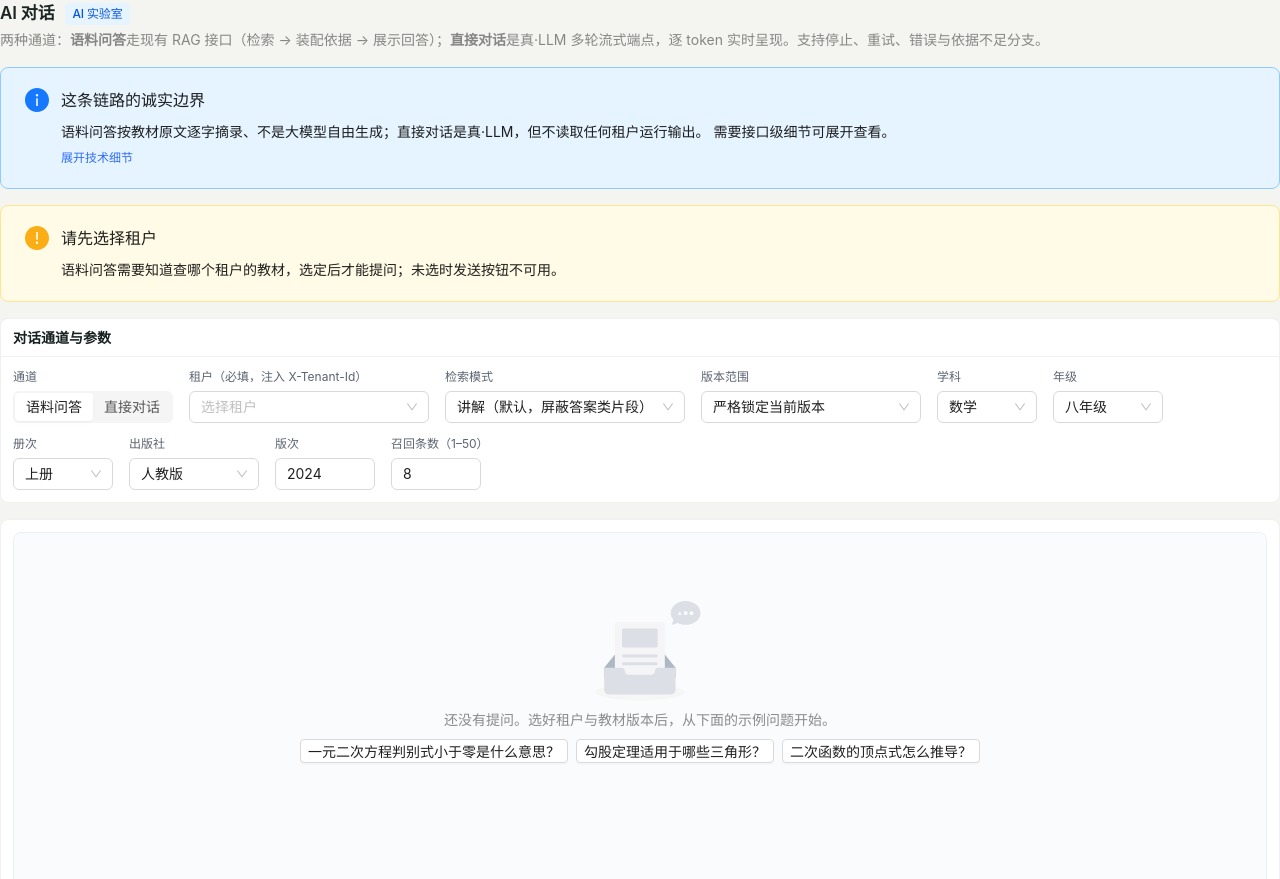
Scenario: AiChatPage · 完整问答流 › ✅ 输入 → 请求 → 阶段 → 回答落地（含生成方式、说明、引用）
Press the mouse on the element showing "选择租户" at (309,407), box [189,391,429,423]
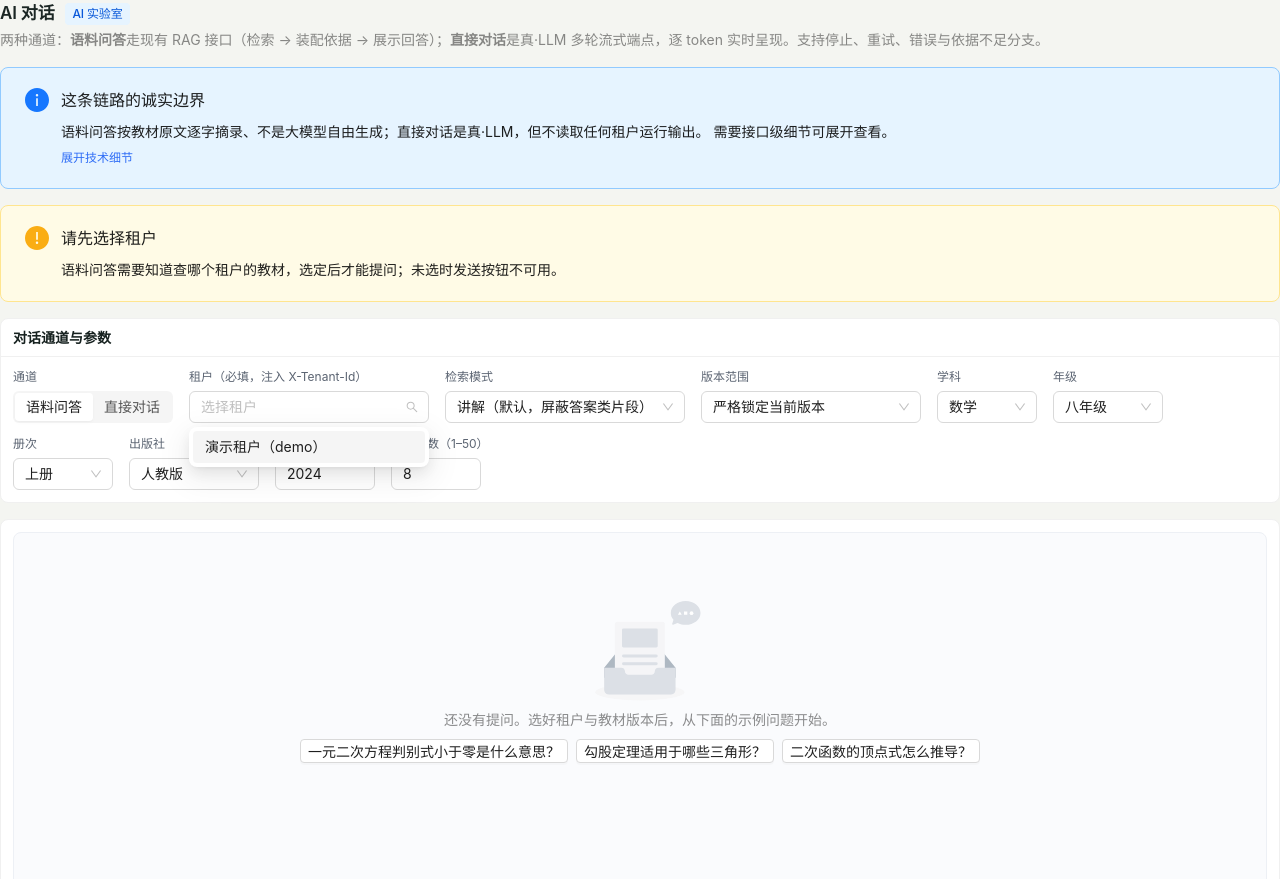
Expected: the element showing "演示租户（demo）" is shown
Click the element showing "演示租户（demo）" at (309,447), box [193,431,425,463]
(page scrolled)
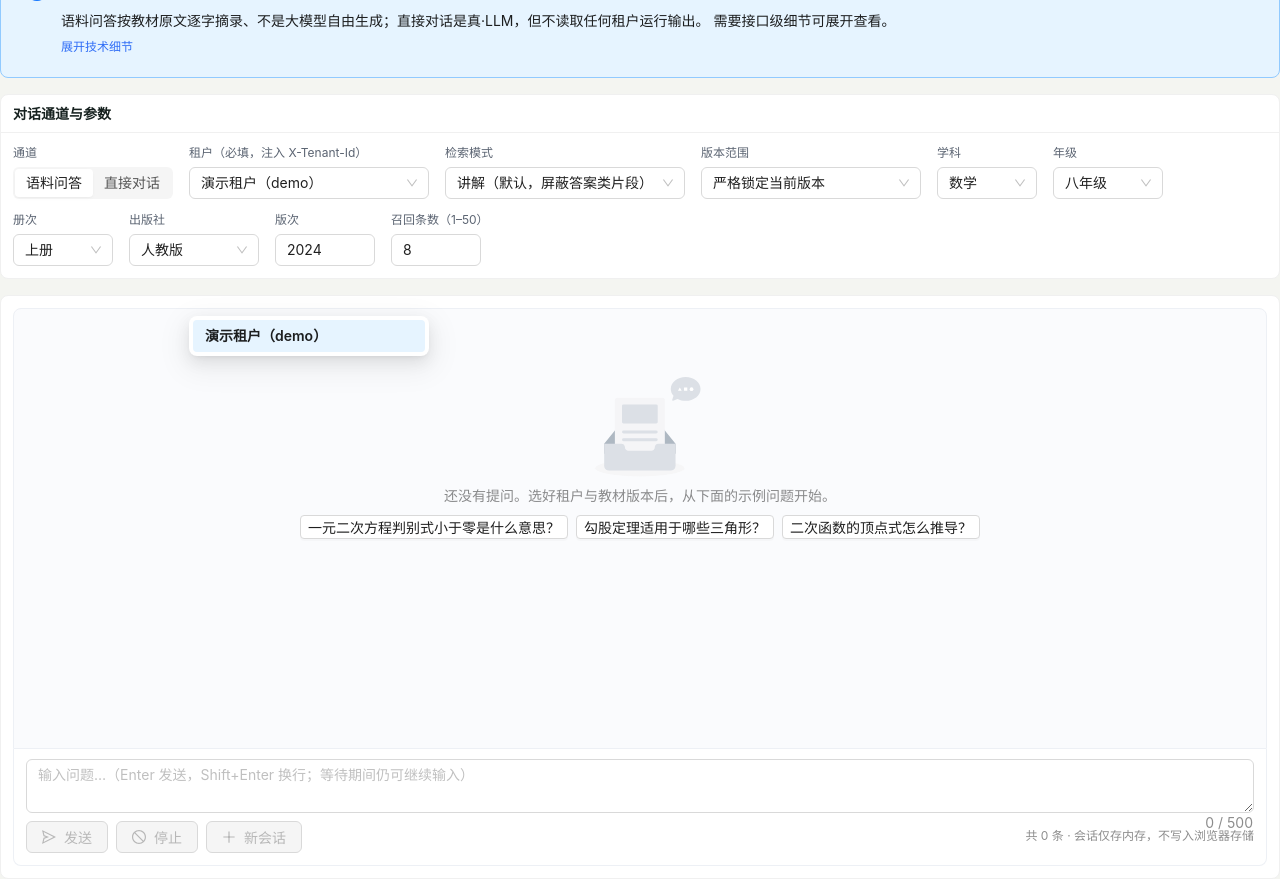
Type "判别式小于零是什么意思？" into the text box with placeholder "输入问题…（Enter 发送，Shift+Enter 换行；等待期间仍可继续输入）" at (640,786), box [27,760,1253,812]
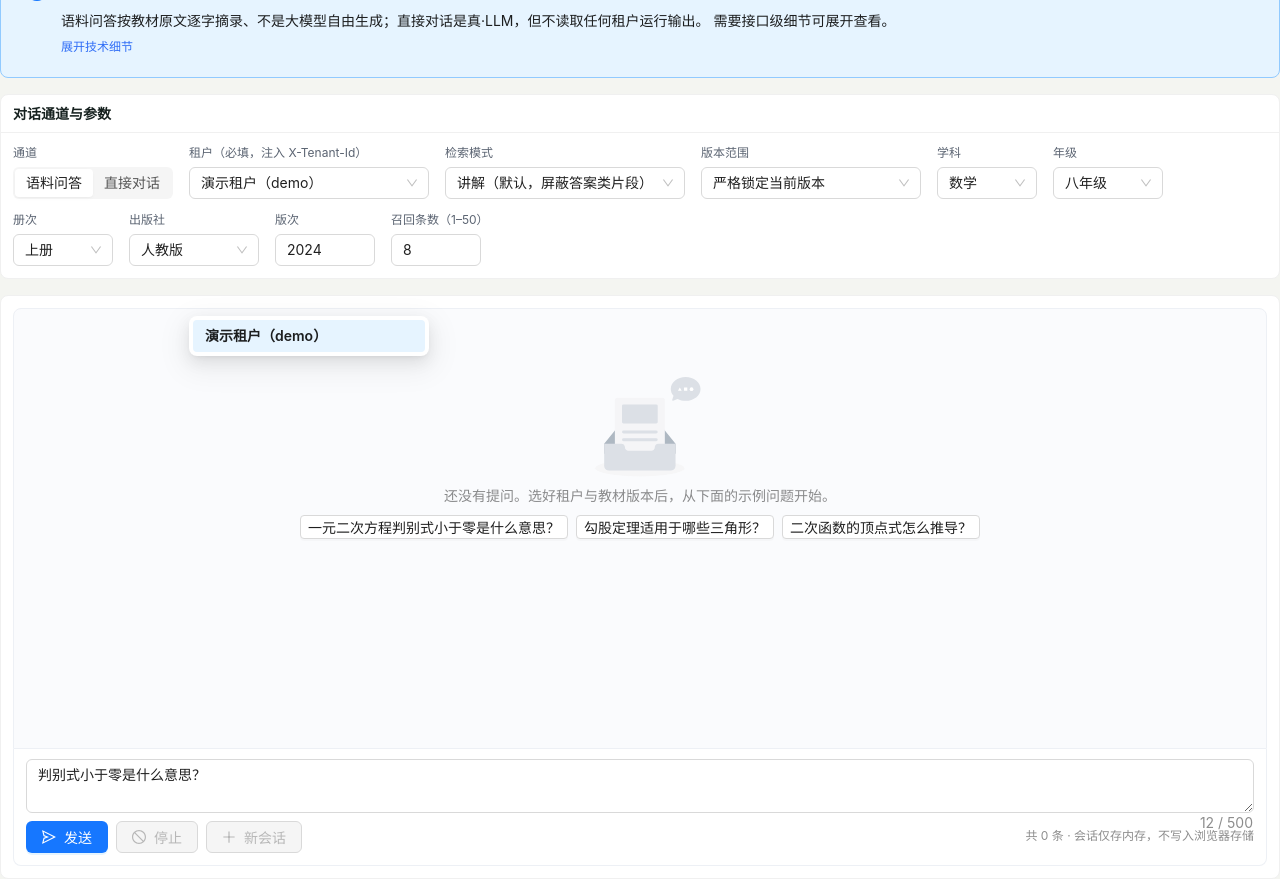
Expected: the button "发送" is enabled
Click the button "发送" at (67,837), box [26,821,108,853]
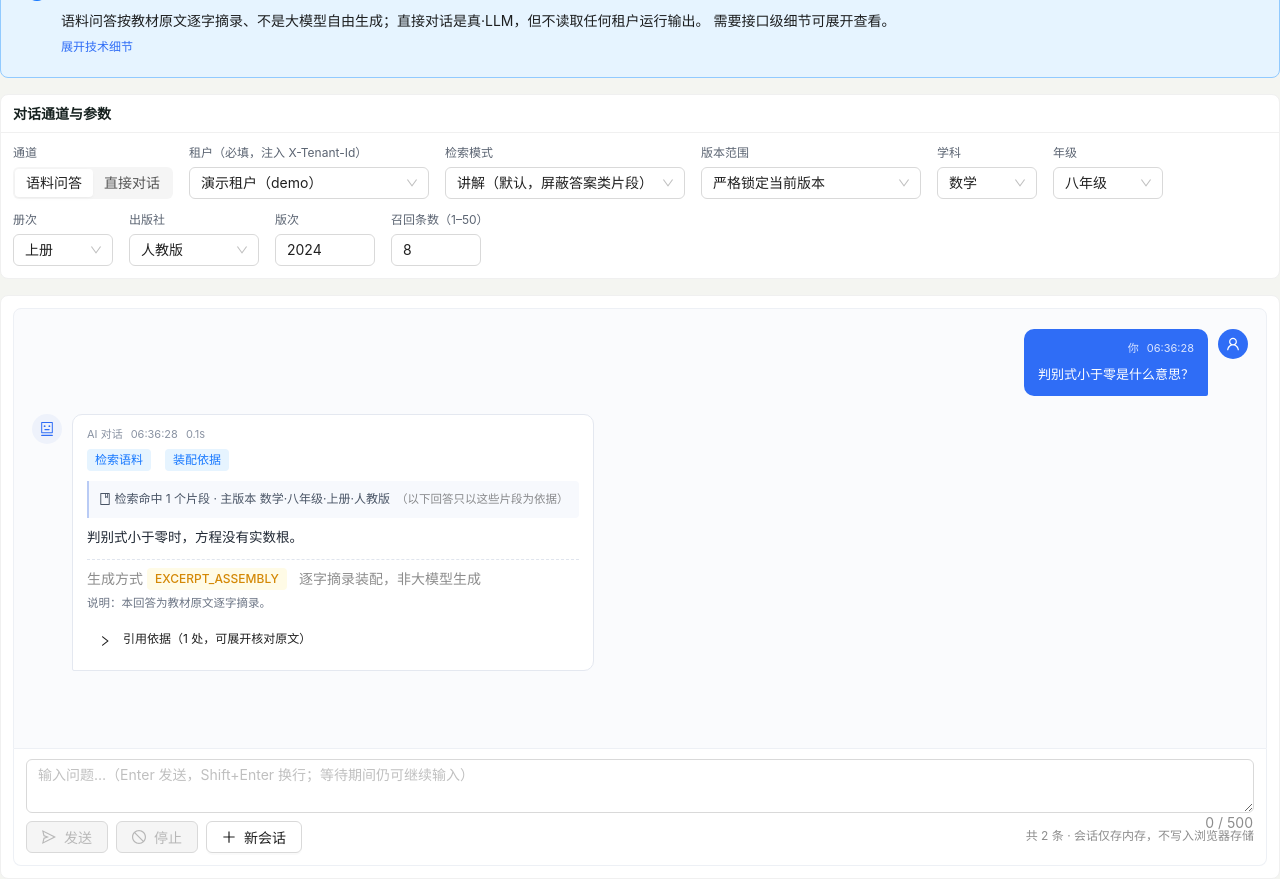
Expected: the text "判别式小于零时，方程没有实数根。" is shown, [87,529,303,545]
Expected: the text "EXCERPT_ASSEMBLY" is shown, [147,568,287,590]
Expected: the text "说明：本回答为教材原文逐字摘录。" is shown, [87,596,271,610]
